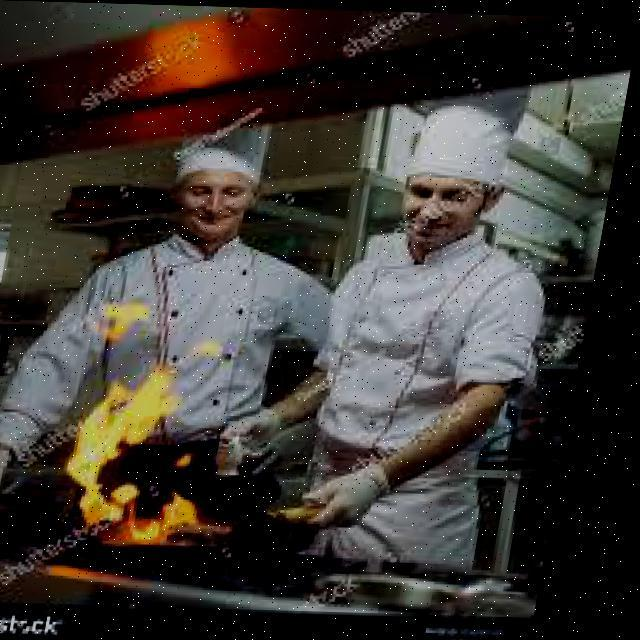Fire: (47, 366, 306, 561)
